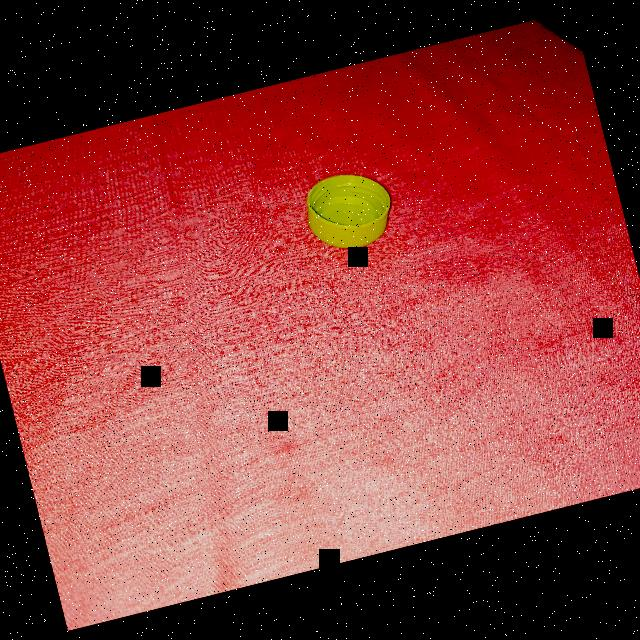plastic_bottle_cap: (298, 162, 400, 258)
